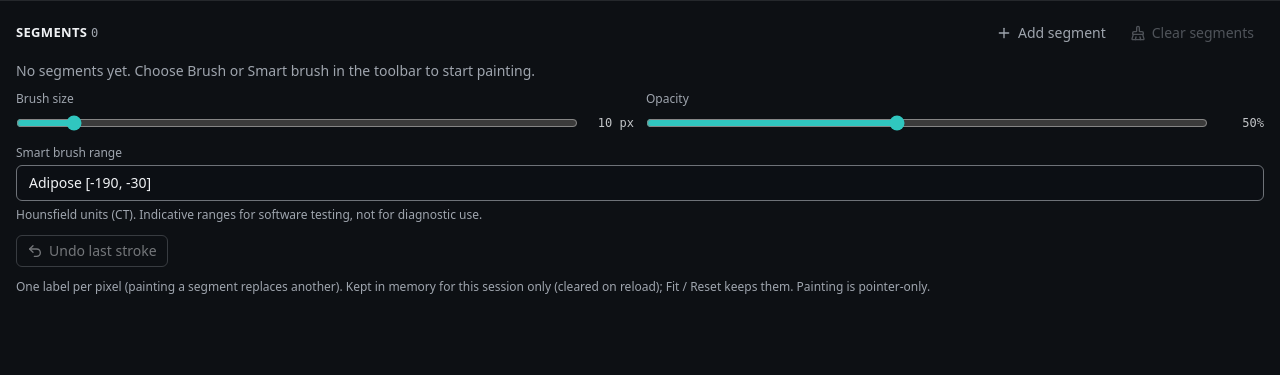
Test: SegmentsSection › adds segments; choosing one makes it the active (pressed) paint target
Click the button "Add segment" at (1051,33), box [986,17,1116,49]
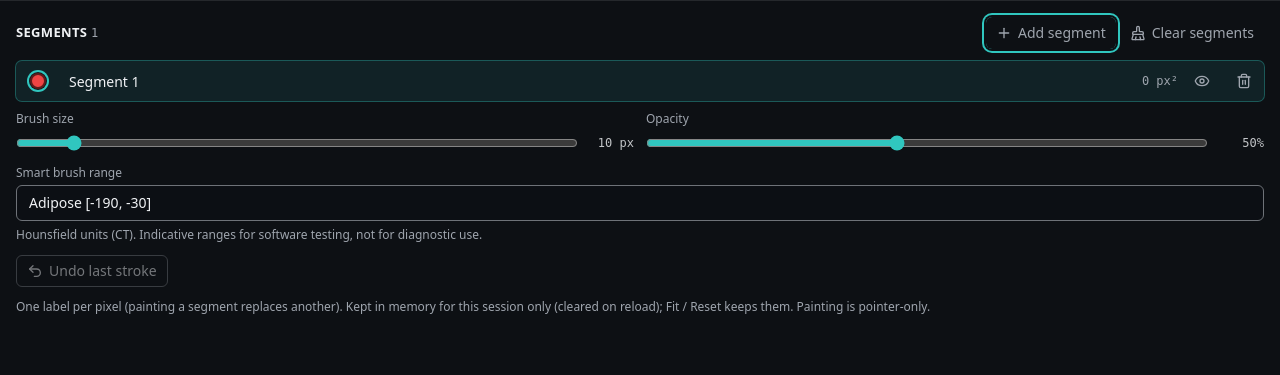
Click the button "Add segment" at (1051,33), box [986,17,1116,49]
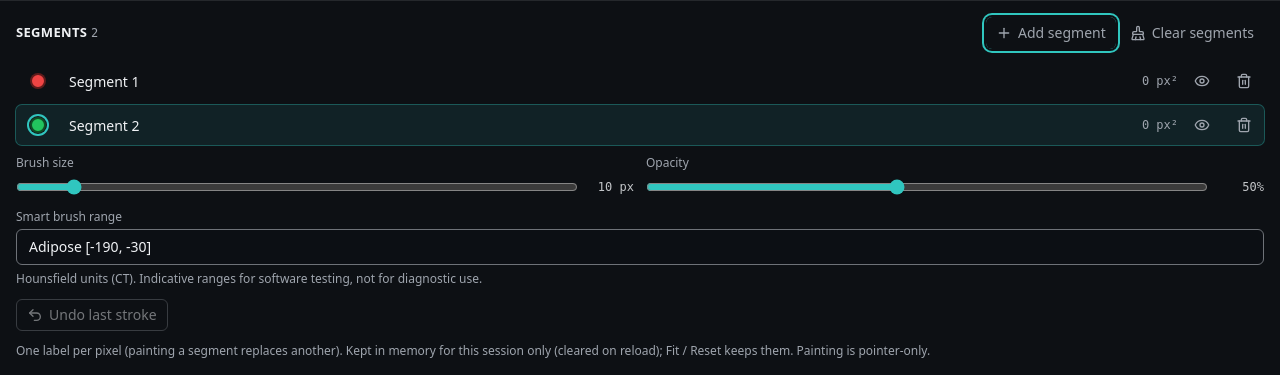
Expected: the heading "Segments 2" is shown, [16,23,98,43]
Click the button named "Paint with Segment 1" at (38,81), box [20,63,56,99]
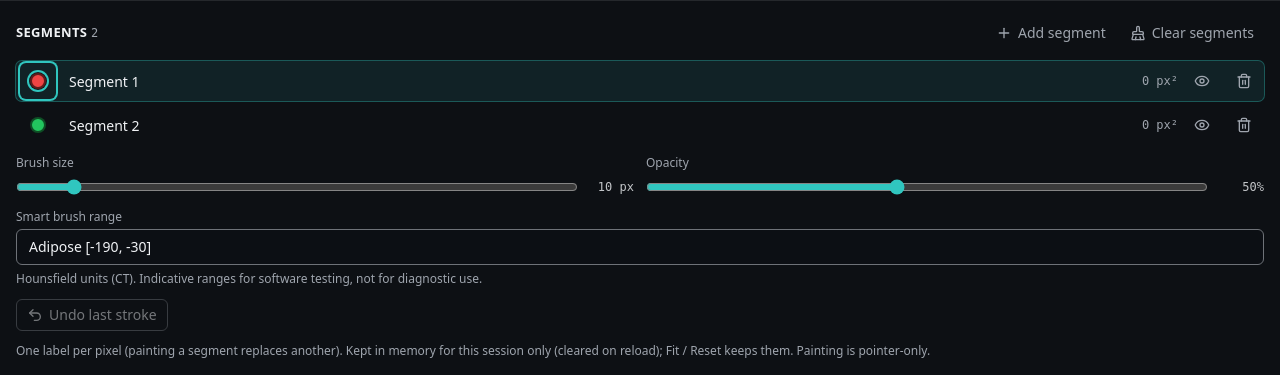
Expected: the button named "Paint with Segment 1" is pressed, [20,63,56,99]
